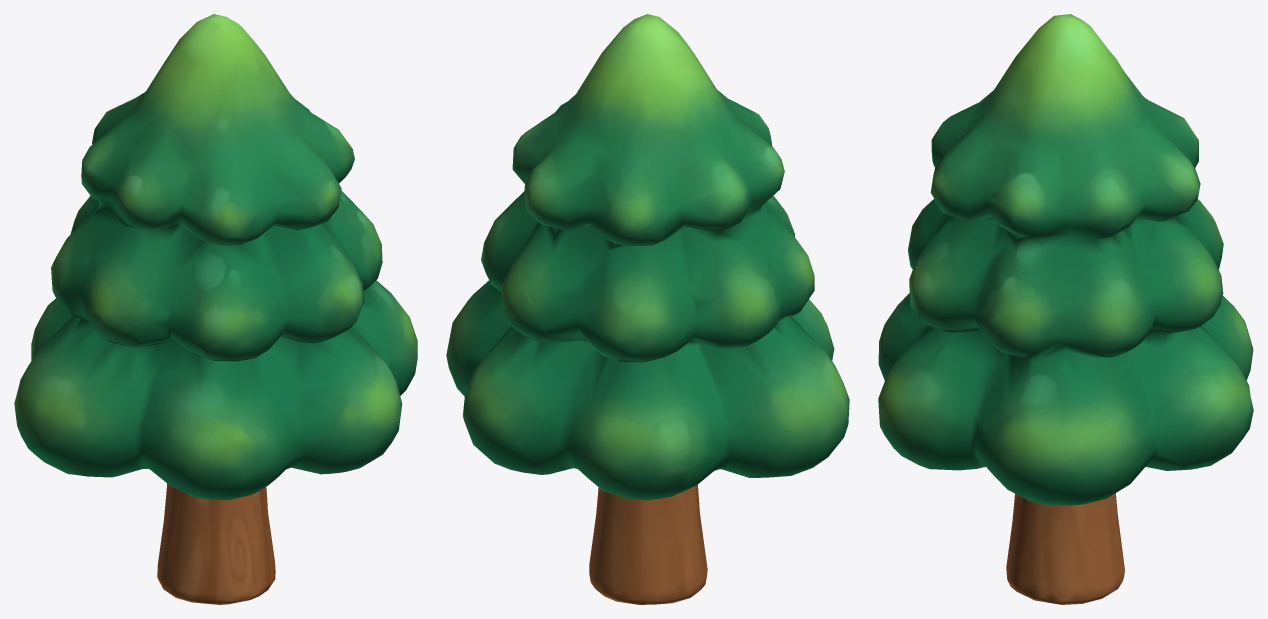
Rendered from arbre-sapin.glb.
3 views of the same model, side by side, from view 1: azimuth 30°, elevation 25°; view 2: azimuth 150°, elevation 25°; view 3: azimuth 270°, elevation 25° (orthographic).
Parts seen in each view (by area): view 1: tripo_node_b0c0ebc2-3937-4b47-86f4-f913622e0d76; view 2: tripo_node_b0c0ebc2-3937-4b47-86f4-f913622e0d76; view 3: tripo_node_b0c0ebc2-3937-4b47-86f4-f913622e0d76.
Part boxes in pixels (box(x1,y1,x2,y2)): tripo_node_b0c0ebc2-3937-4b47-86f4-f913622e0d76: box(14, 14, 417, 604); tripo_node_b0c0ebc2-3937-4b47-86f4-f913622e0d76: box(446, 14, 849, 604); tripo_node_b0c0ebc2-3937-4b47-86f4-f913622e0d76: box(878, 14, 1253, 604).
Size of the model in its own units: 0.6992 by 1 by 0.5999.
1 material, 1 textured.
